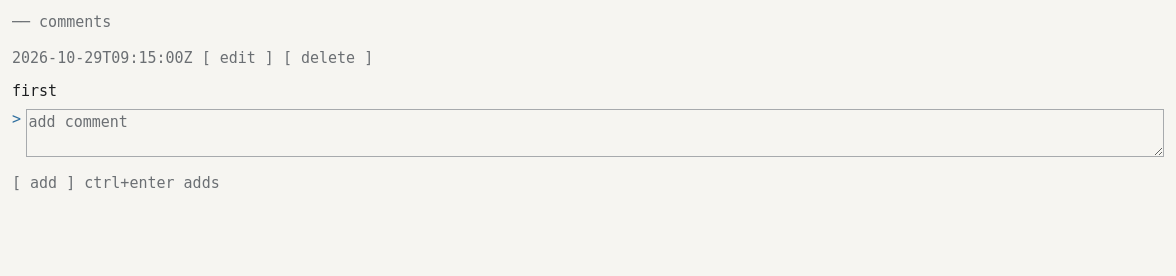
Scenario: comments panel › Ctrl+Enter adds a comment at the end and clears the prompt
Expected: the text "first" is shown, [12,82,57,100]
Type "second" into the text box labelled "add comment".
click(595, 133); type("second")  # box [26,109,1164,157]
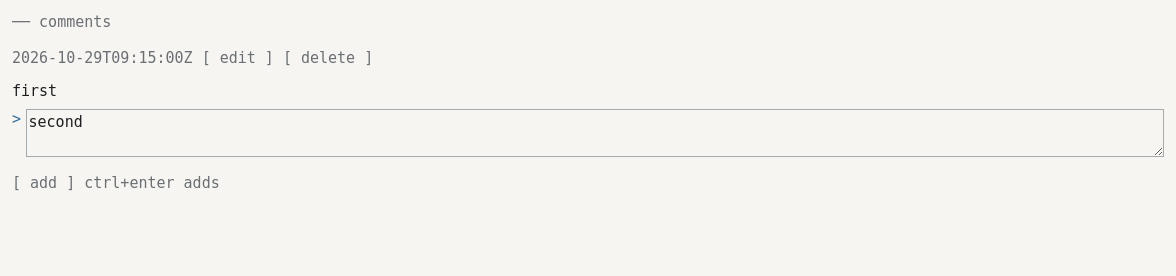
Press Enter in the text box named "add comment", box [26,109,1164,157]
Press Enter in the text box named "add comment", box [26,109,1164,157]
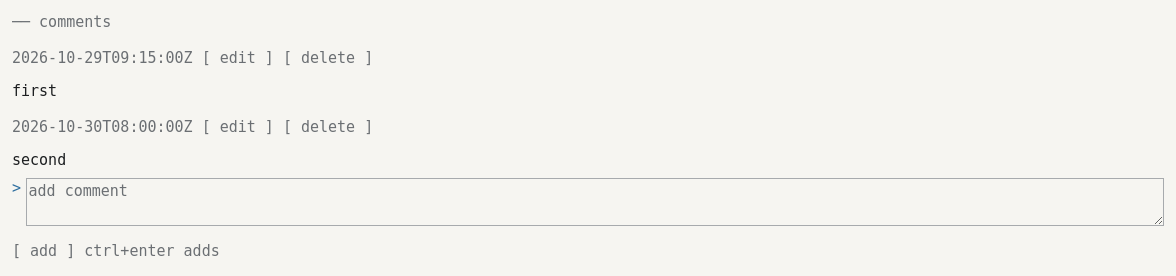
Result: the text "second" is shown at [12,150,66,168]
Result: the list item "2026-10-30T08:00:00Z [ edit ] [ delete ] second" is shown at [12,106,373,168]
Result: the text box labelled "add comment" is empty at [26,178,1164,226]
